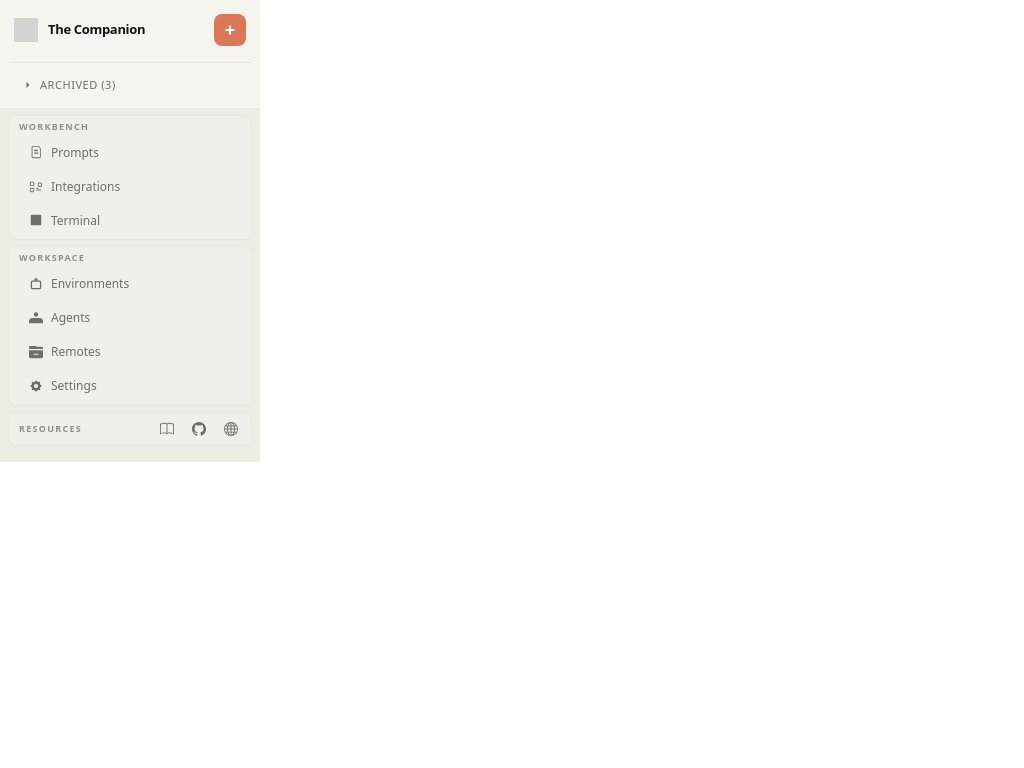
it: Sidebar › delete-all modal uses singular 'session' when only one archived session
The width and height of the screenshot is (1024, 768).
Click the button "Archived (3)": {"x": 130, "y": 85} [10, 71, 250, 100]
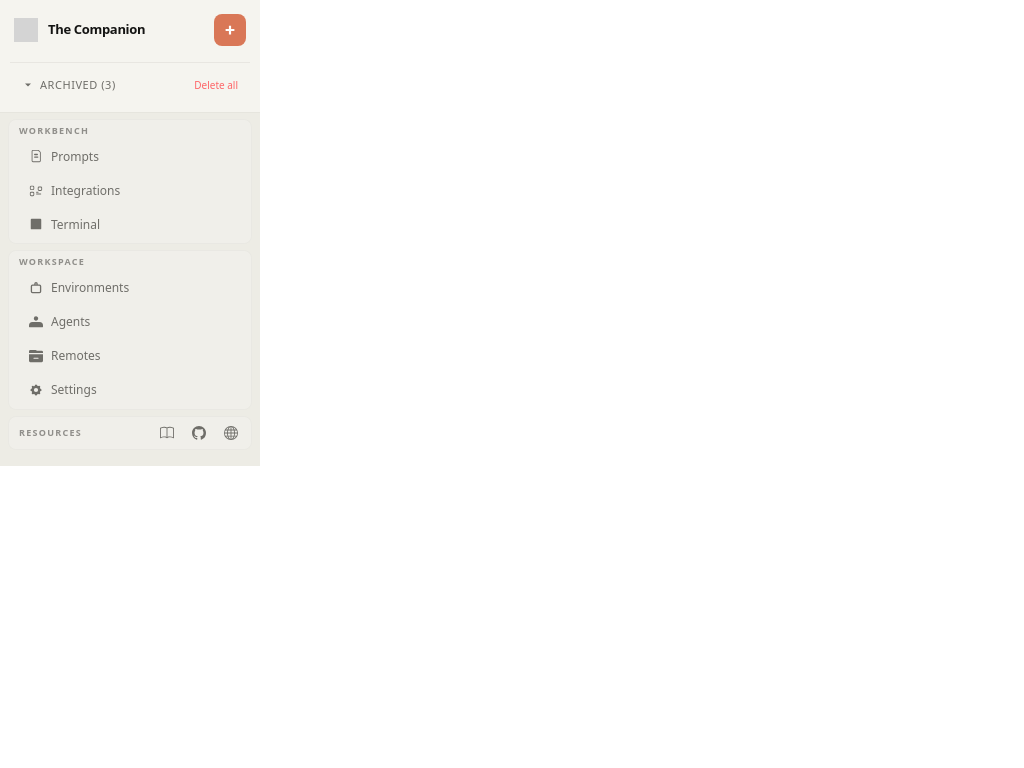
Click the button "Delete all": {"x": 216, "y": 85} [186, 74, 246, 97]
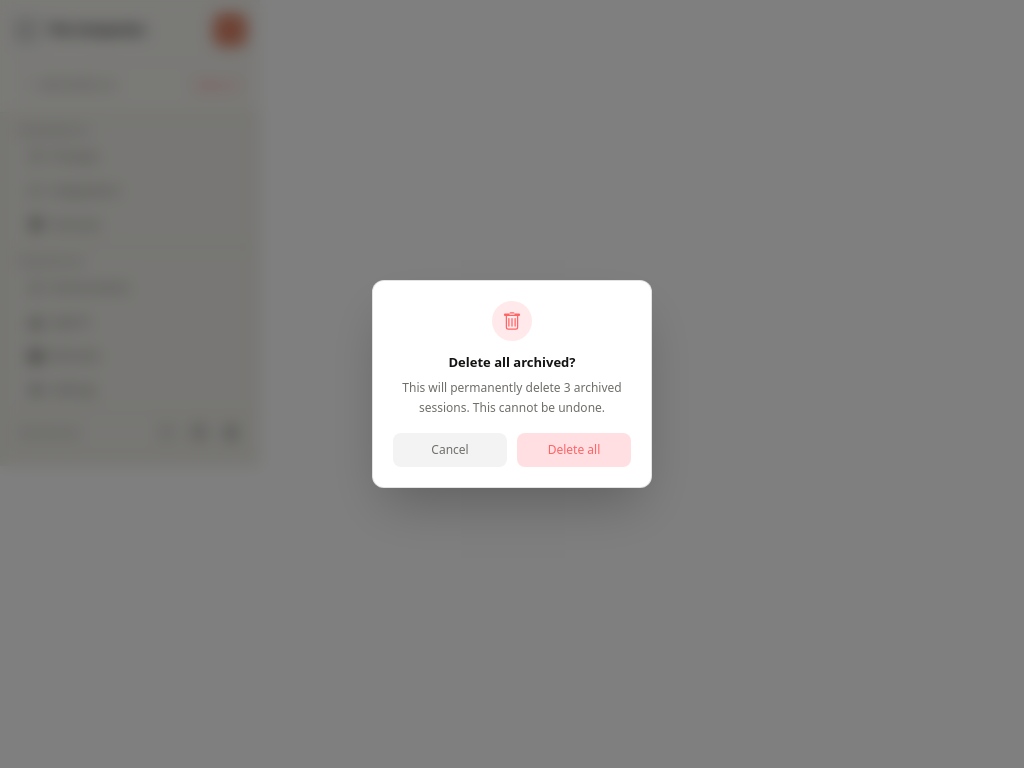
Check: the text "3 archived sessions" is shown, box [402, 379, 622, 416]
